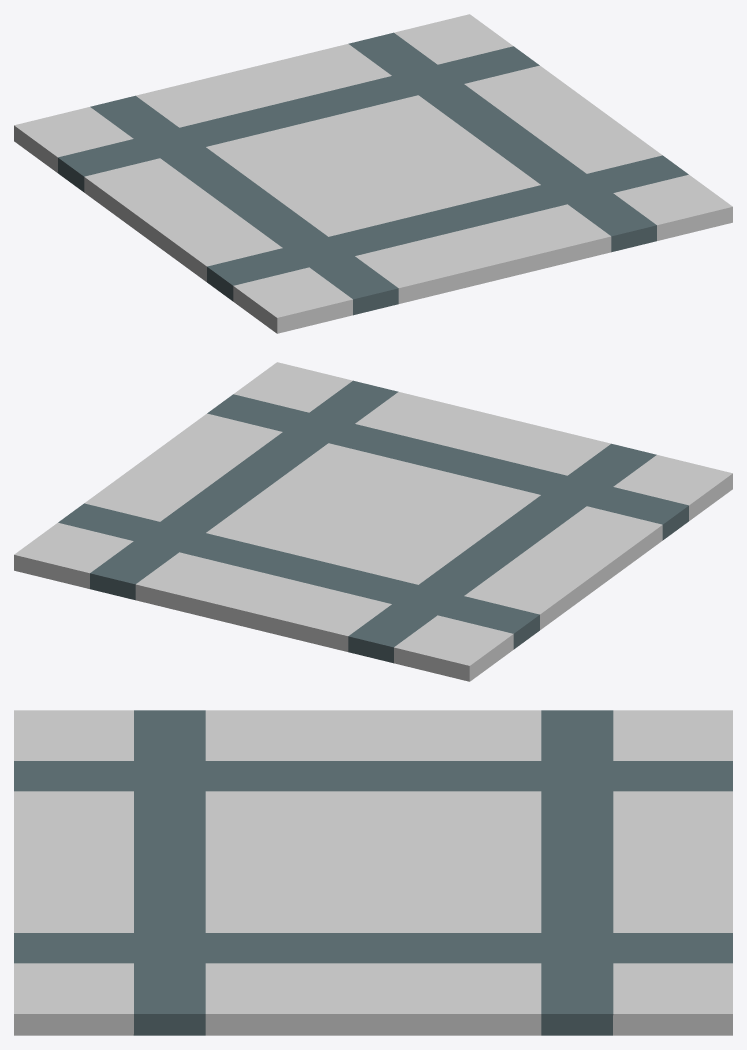
The model's file is scifi_floor_2.fbx.
3 views of the same model, one above another, from view 1: azimuth 30°, elevation 25°; view 2: azimuth 150°, elevation 25°; view 3: azimuth 270°, elevation 25° (orthographic). The views are drawn at different scales.
Parts seen in each view (by area): view 1: Cube.011; view 2: Cube.011; view 3: Cube.011.
Part boxes in pixels (x1,y1,x2,y2): Cube.011: [14, 14, 732, 333]; Cube.011: [14, 362, 732, 681]; Cube.011: [14, 710, 732, 1035].
Bounding box in the file's own units: 3 × 0.1 × 3.
